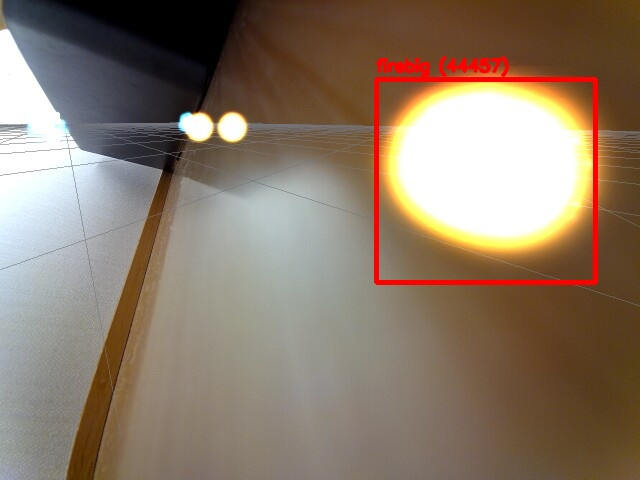firebig: (376, 79, 595, 282)
